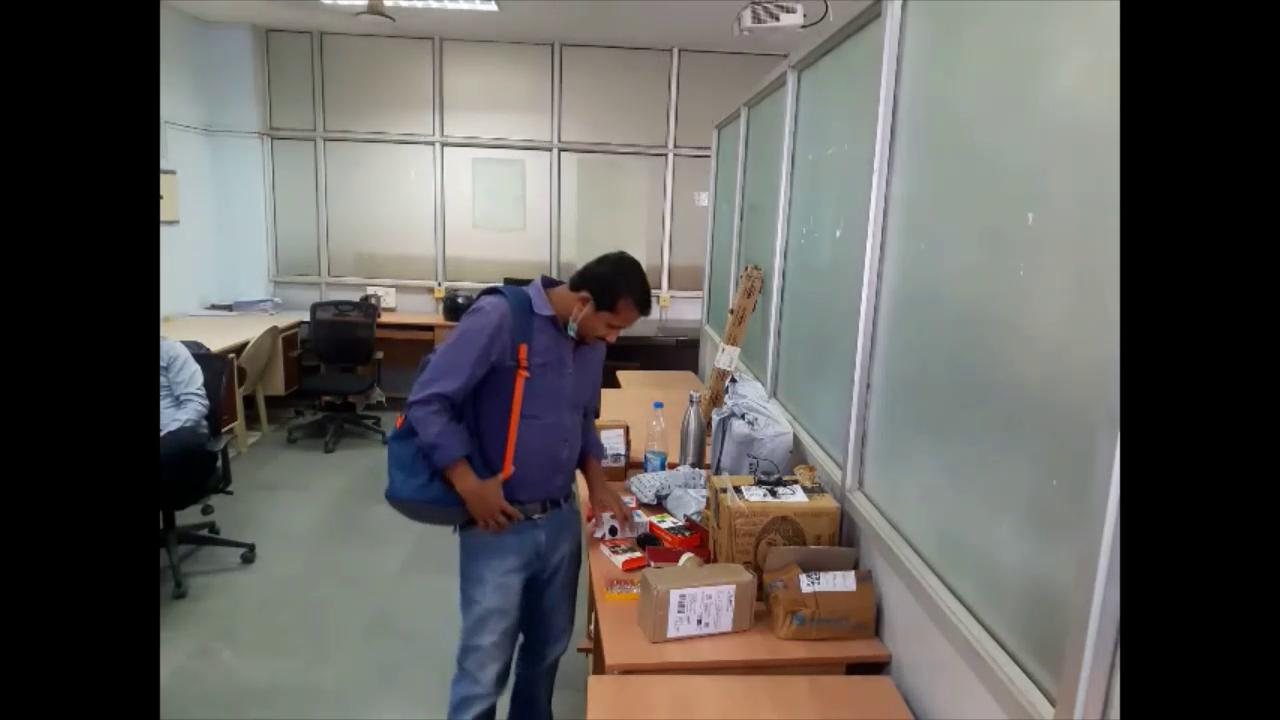Normal: (381, 202, 653, 720)
